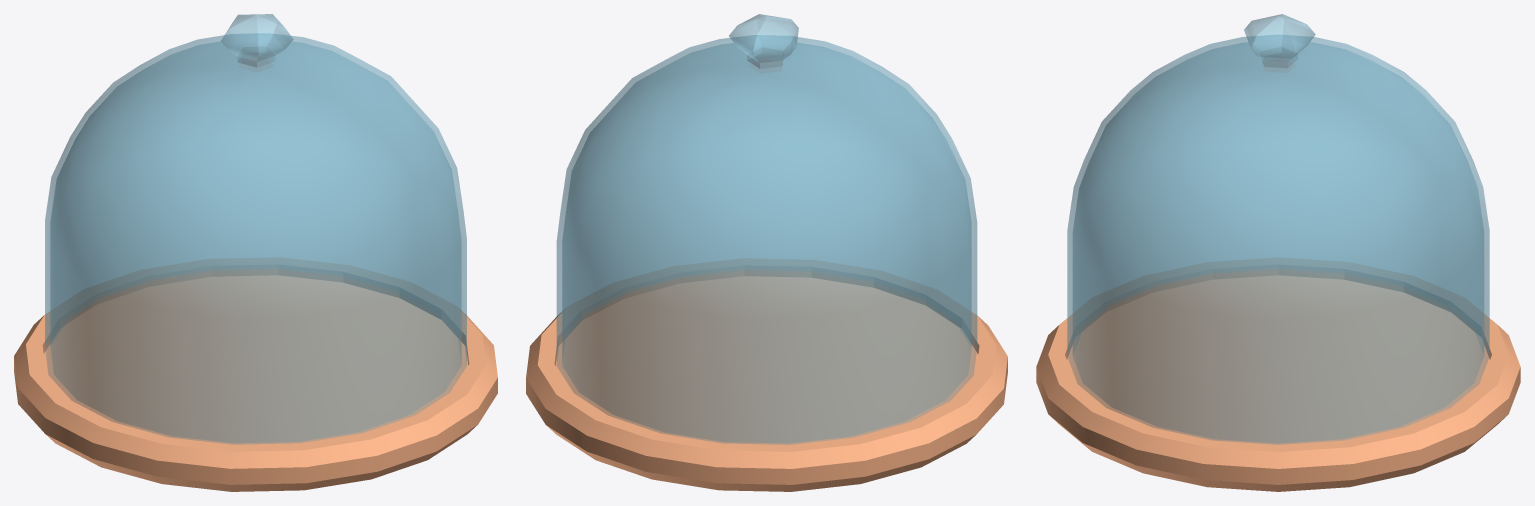
File: PW_display01.fbx
3 renders of one model, left to right at view 1: azimuth 30°, elevation 25°; view 2: azimuth 150°, elevation 25°; view 3: azimuth 270°, elevation 25°, orthographic.
Visible parts, largest first — view 1: glass, plate; view 2: glass, plate; view 3: glass, plate.
Part boxes in pixels (x1=…): glass: x1=45, y1=14, x2=466, y2=444; plate: x1=14, y1=258, x2=497, y2=491; glass: x1=556, y1=14, x2=977, y2=444; plate: x1=526, y1=259, x2=1007, y2=491; glass: x1=1067, y1=14, x2=1489, y2=444; plate: x1=1036, y1=258, x2=1520, y2=491.
Bounding box in the file's own units: 59.87 × 51.59 × 59.87.
Materials: 2 (1 with a texture image).
